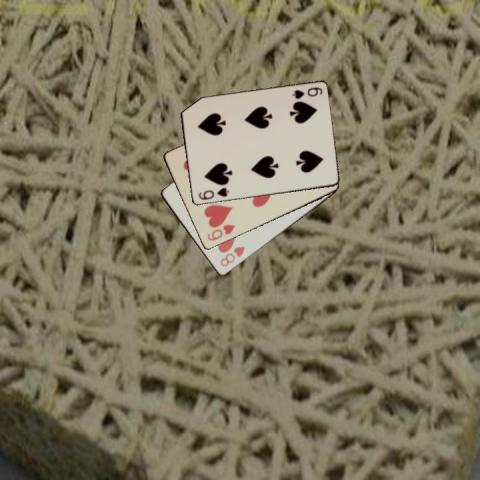6h: (204, 221, 237, 243)
6s: (290, 84, 324, 101), (195, 185, 230, 201)
8h: (217, 243, 247, 269)
